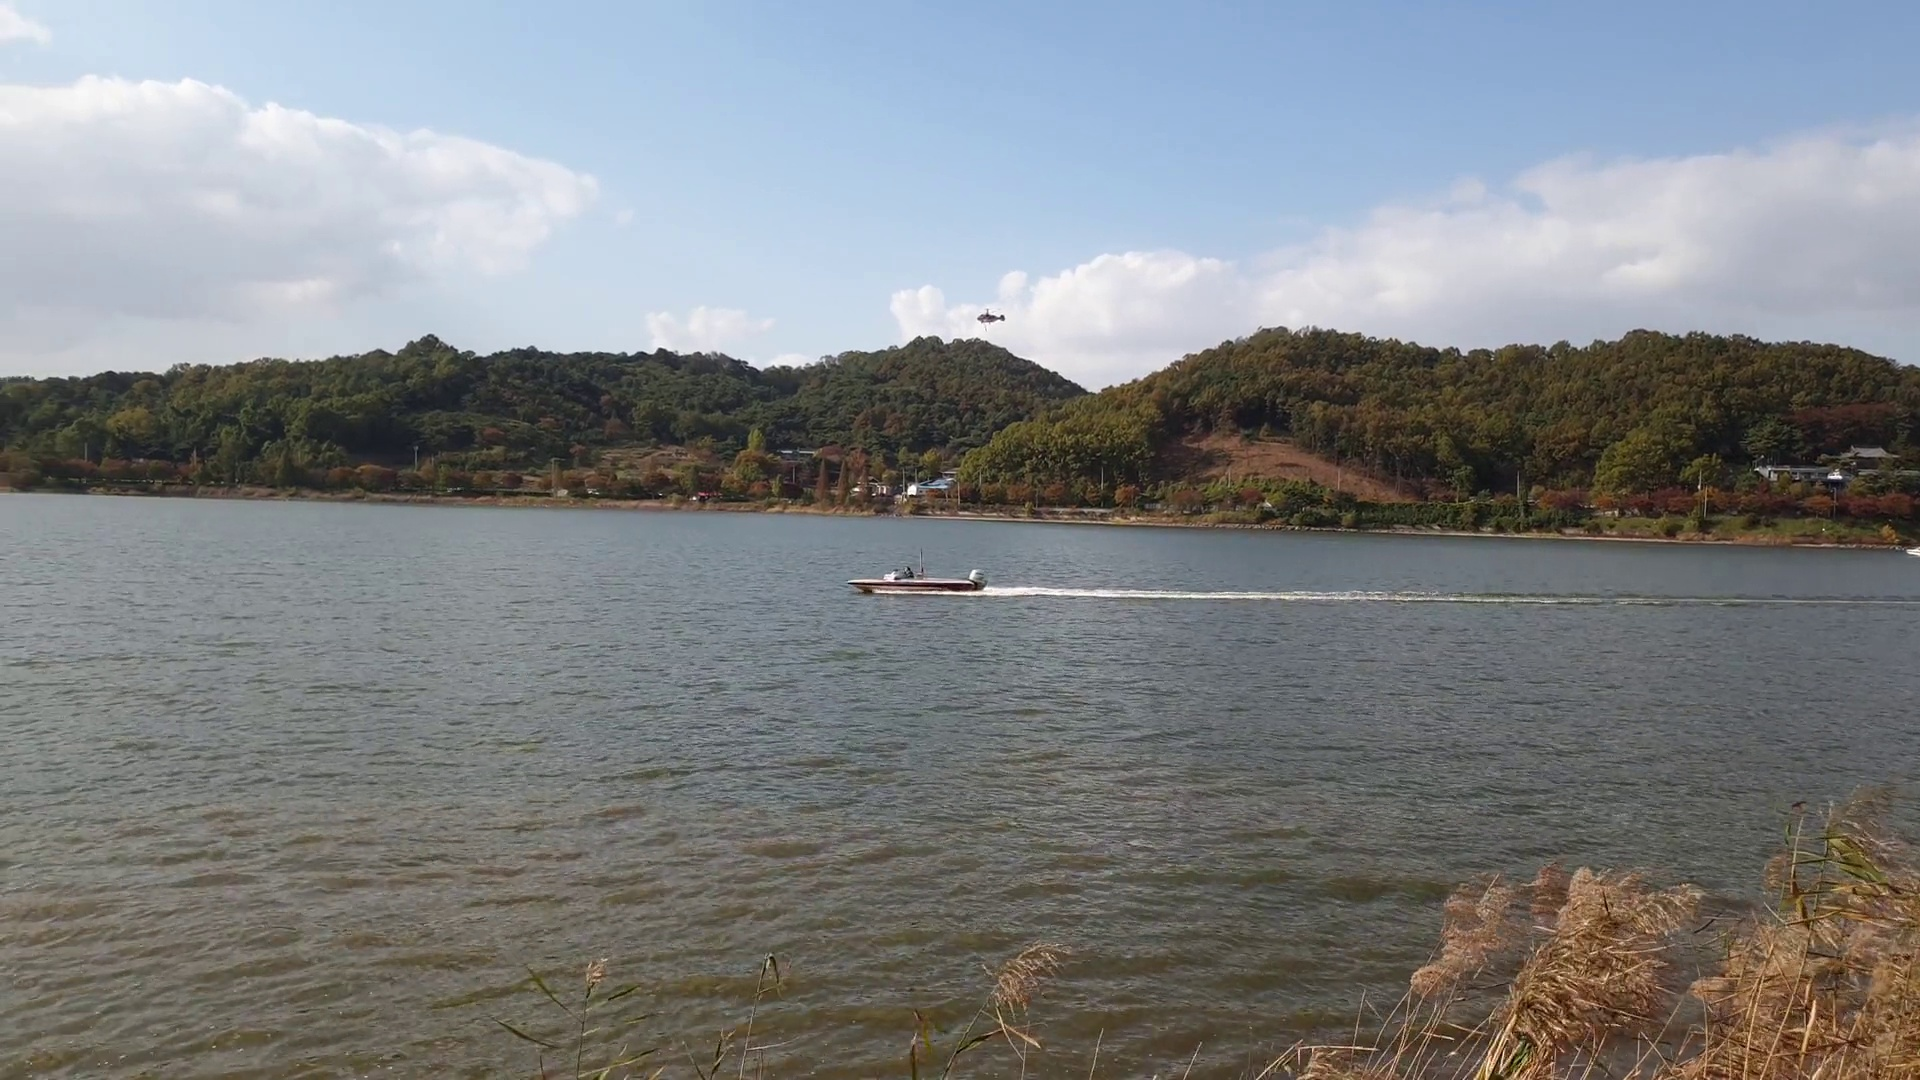heli: (976, 307, 1006, 324)
